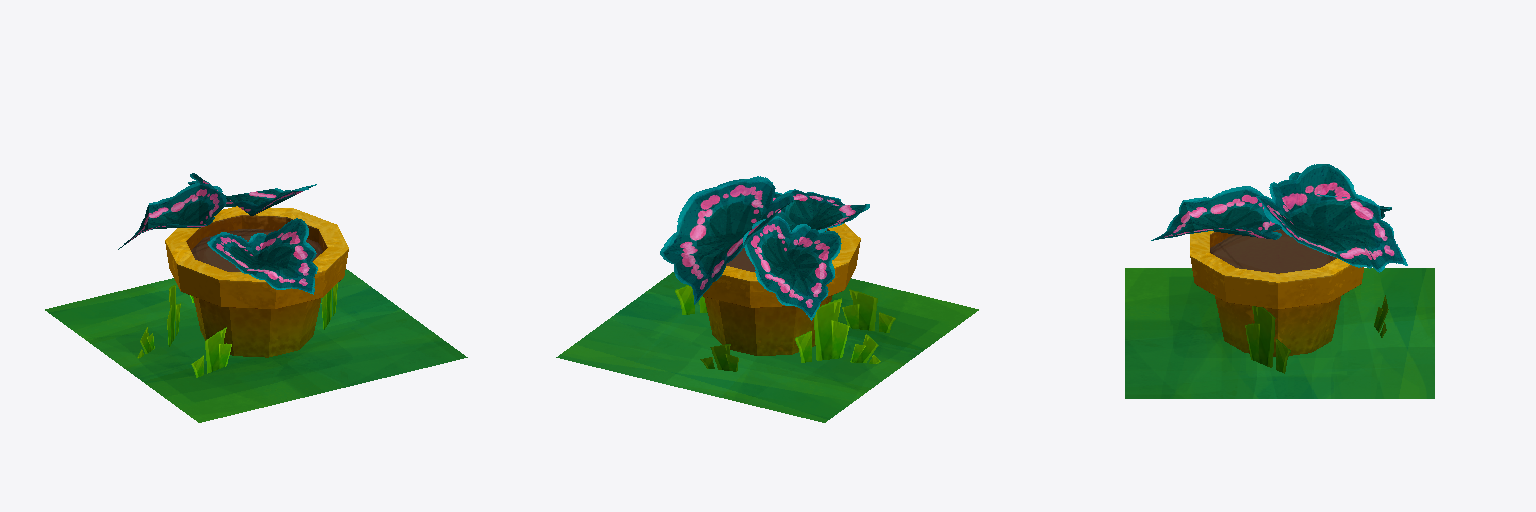
3 views of the same model, side by side, from view 1: azimuth 30°, elevation 25°; view 2: azimuth 150°, elevation 25°; view 3: azimuth 270°, elevation 25° (orthographic).
Visible parts, largest first — view 1: Stylizedplants_model.001; view 2: Stylizedplants_model.001; view 3: Stylizedplants_model.001.
Part boxes in pixels (x1,y1,x2,y2): Stylizedplants_model.001: (45,173,467,422); Stylizedplants_model.001: (556,176,978,422); Stylizedplants_model.001: (1125,164,1434,398).
Size of the model in its own units: 45.19 by 28.6 by 45.19.
Materials: 1 (1 with a texture image).